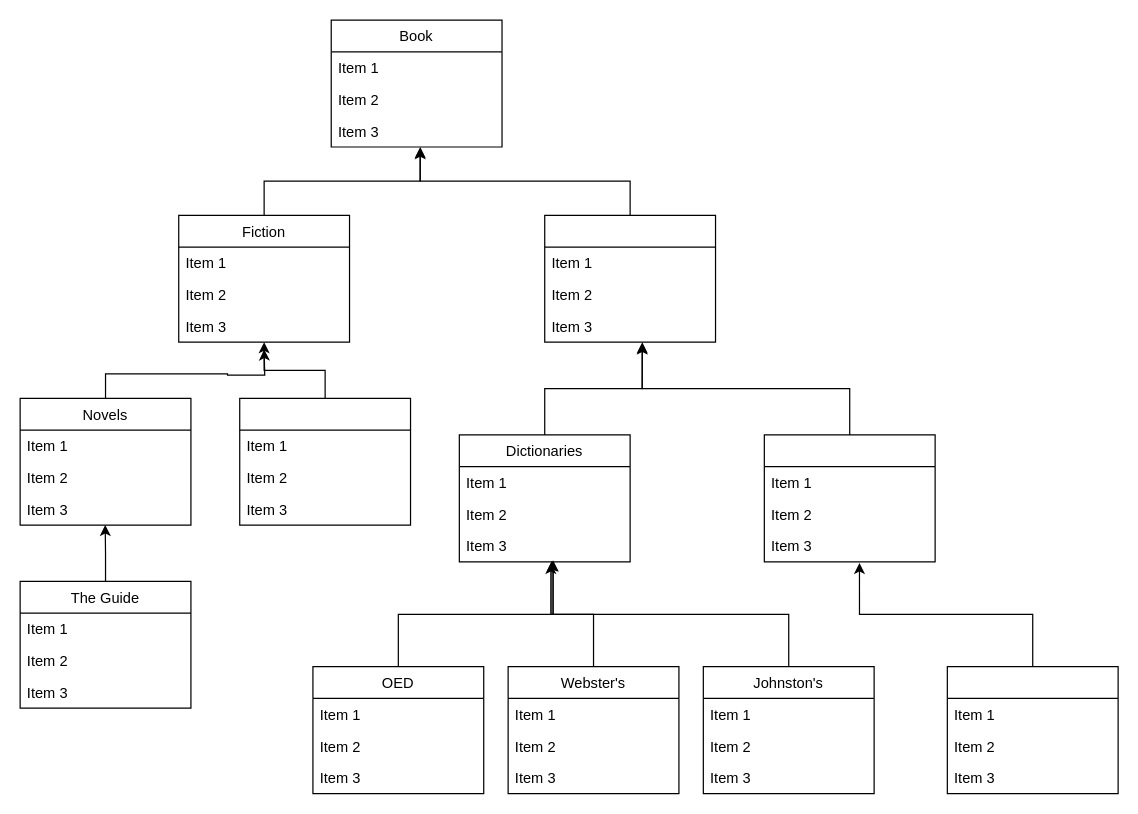
Some shapes in this 1138 by 814 pixel diagram are drawn without their labels. Each missing label, with the box of its shape:
Cookbooks: (763, 434, 935, 562)
Flour Water Salt Yeast: (946, 666, 1118, 794)
Michael Strogoff: (239, 397, 411, 525)
Non Fiction: (544, 214, 716, 342)
